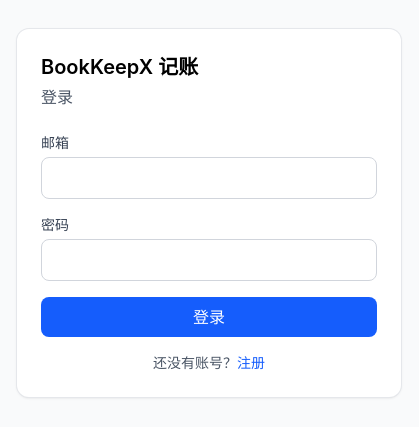
Test: 登录页 › 反向：邮箱格式不对 → 显示字段错误，且不发送登录请求
In the field labelled "邮箱": (209, 178) [41,157,377,199], type "not-an-email"
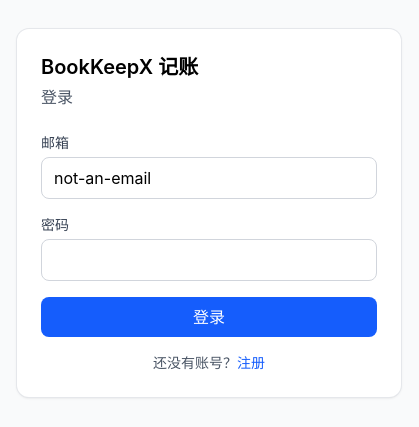
In the password field labelled "密码": (209, 260) [41,239,377,281], type "whatever"
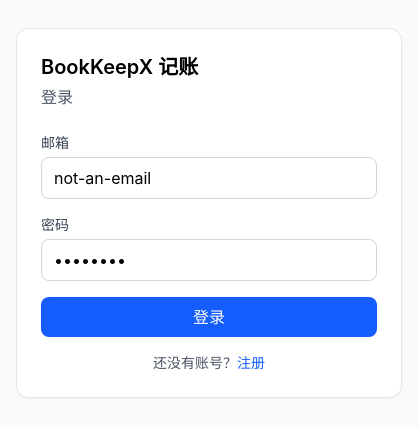
Click the button "登录": (209, 317) [41,297,377,337]
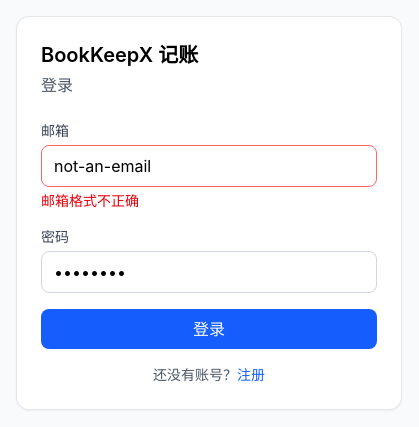
Expected: the text "邮箱格式不正确" is shown, [41,192,139,209]
